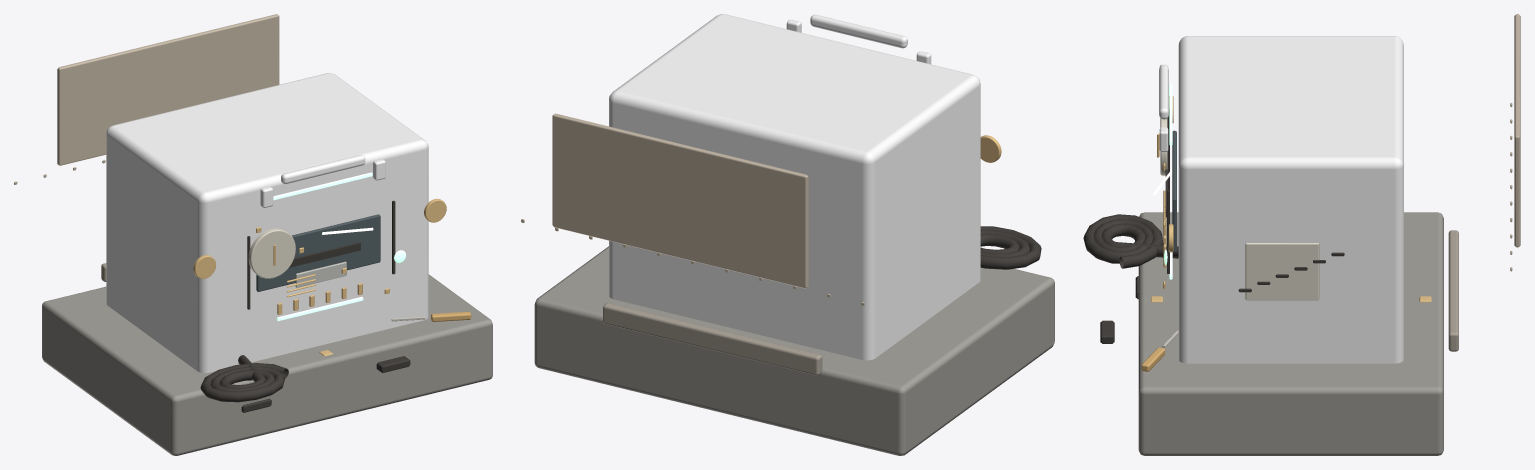
3 views of the same model, side by side, from view 1: azimuth 30°, elevation 25°; view 2: azimuth 150°, elevation 25°; view 3: azimuth 270°, elevation 25° (orthographic). The views are drawn at different scales.
Parts seen in each view (by area): view 1: repaired_subject_body, repaired_base_plinth, repair_studio_pegboard_warm_backdrop, repaired_front_panel_glass, repaired_power_cable_coil_front, repaired_round_dial_ivory_bezel, repaired_handle_warm_ivory_arc_bar, repaired_label_plate_soft_gray, repaired_panel_inner_shadow_slot, repaired_top_accent_line; view 2: repaired_subject_body, repaired_base_plinth, repair_studio_pegboard_warm_backdrop, repair_workbench_back_lip, repaired_power_cable_coil_front, repaired_handle_warm_ivory_arc_bar; view 3: repaired_subject_body, repaired_base_plinth, repaired_side_service_panel_plate, repaired_power_cable_coil_front, repair_studio_pegboard_warm_backdrop, repair_workbench_back_lip, repaired_front_panel_glass, repaired_handle_warm_ivory_arc_bar.
Boxes of the visible parts, box(x1,y1,x2,y2) form: repaired_subject_body: box(106, 73, 428, 373); repaired_base_plinth: box(42, 274, 492, 455); repair_studio_pegboard_warm_backdrop: box(57, 14, 279, 165); repaired_front_panel_glass: box(256, 214, 380, 291); repaired_power_cable_coil_front: box(200, 355, 288, 402); repaired_round_dial_ivory_bezel: box(248, 228, 295, 278); repaired_handle_warm_ivory_arc_bar: box(281, 155, 365, 184); repaired_label_plate_soft_gray: box(295, 261, 346, 287); repaired_panel_inner_shadow_slot: box(289, 242, 360, 267); repaired_top_accent_line: box(273, 172, 372, 200); repaired_subject_body: box(609, 14, 980, 360); repaired_base_plinth: box(534, 246, 1054, 455); repair_studio_pegboard_warm_backdrop: box(552, 113, 808, 288); repair_workbench_back_lip: box(603, 303, 822, 375); repaired_power_cable_coil_front: box(980, 226, 1041, 269); repaired_handle_warm_ivory_arc_bar: box(810, 14, 907, 48); repaired_subject_body: box(1178, 36, 1403, 363); repaired_base_plinth: box(1138, 212, 1443, 455); repaired_side_service_panel_plate: box(1245, 243, 1319, 300); repaired_power_cable_coil_front: box(1083, 214, 1178, 268); repair_studio_pegboard_warm_backdrop: box(1514, 14, 1520, 247); repair_workbench_back_lip: box(1448, 230, 1458, 351); repaired_front_panel_glass: box(1172, 130, 1176, 252); repaired_handle_warm_ivory_arc_bar: box(1159, 65, 1168, 119).
Size of what is drawn, in the model's own units: 2.4 by 1.84 by 2.47.
